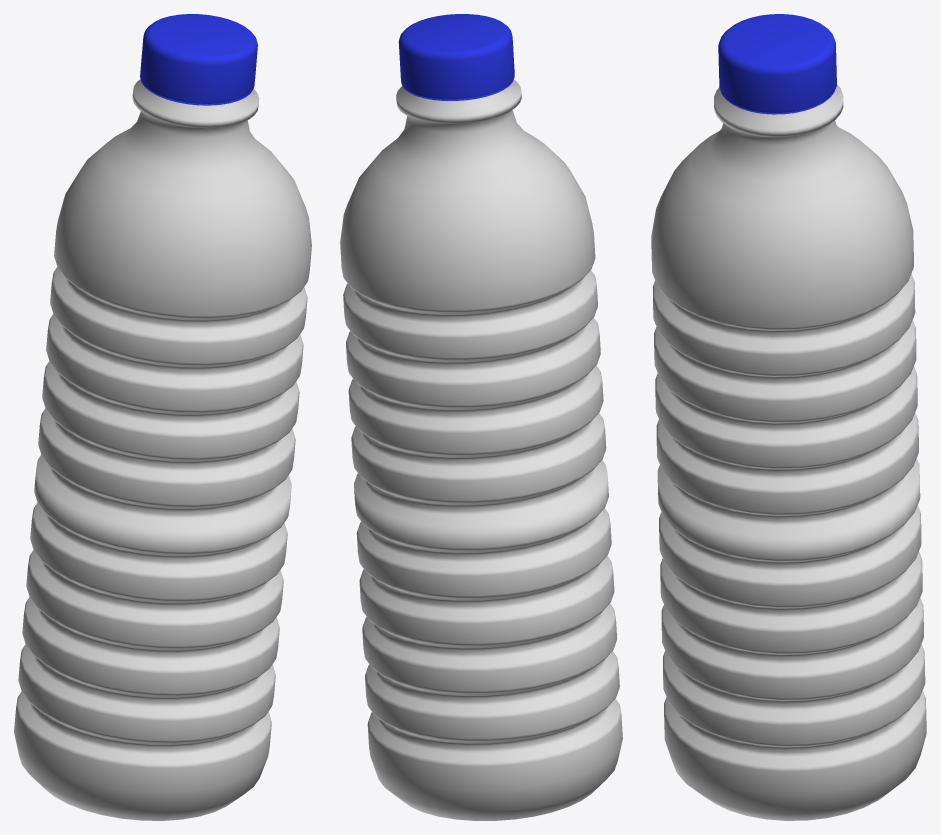
Rendered from Liquid.fbx.
The picture shows the model from 3 angles, left to right: view 1: azimuth 30°, elevation 25°; view 2: azimuth 150°, elevation 25°; view 3: azimuth 270°, elevation 25°; orthographic projection. The views are drawn at different scales.
Visible parts, largest first — view 1: Cylinder.001; view 2: Cylinder.001; view 3: Cylinder.001.
Part boxes in pixels (bbox=[...]): Cylinder.001: bbox=[14, 14, 311, 820]; Cylinder.001: bbox=[340, 14, 622, 820]; Cylinder.001: bbox=[651, 14, 926, 820].
Size of the model in its own units: 1039 by 2915 by 943.
